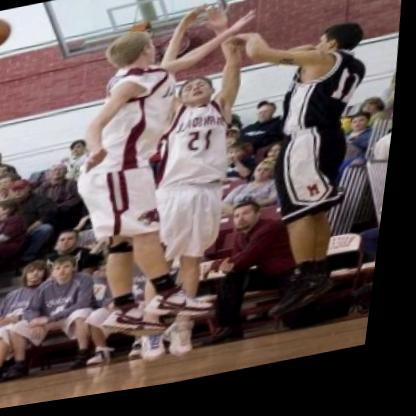basketball: (0, 12, 19, 56)
